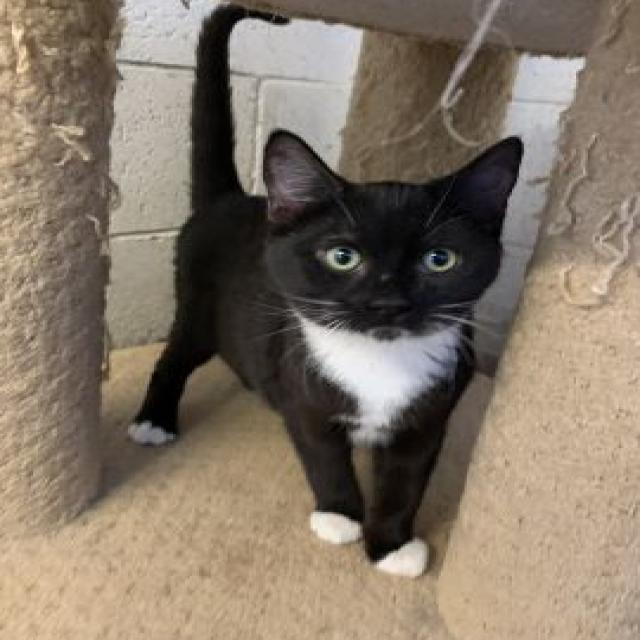Tuxedo: (121, 0, 528, 580)
